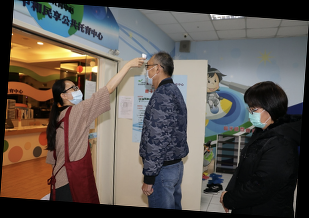with_mask: (247, 107, 268, 130), (67, 85, 85, 107), (143, 60, 157, 85)
